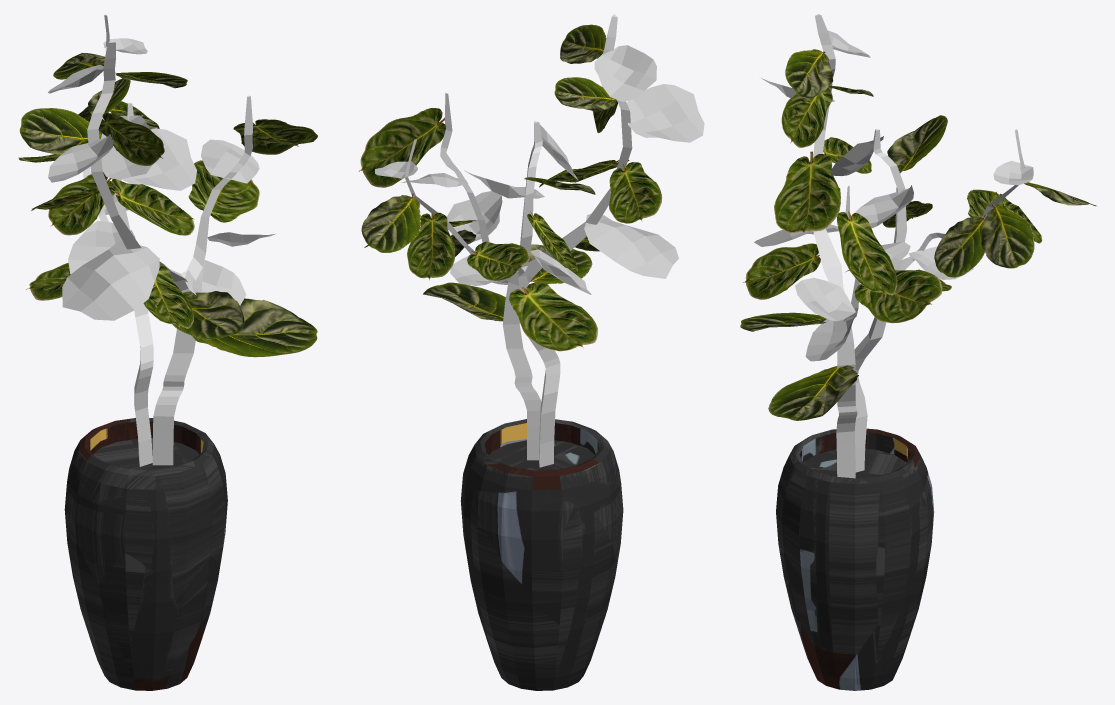
File: Full Plant Low.fbx
The picture shows the model from 3 angles, left to right: view 1: azimuth 30°, elevation 25°; view 2: azimuth 150°, elevation 25°; view 3: azimuth 270°, elevation 25°; orthographic projection. The views are drawn at different scales.
Parts seen in each view (by area): view 1: Pot1_low.002, please-help-base-of-leaf-brown-causing-major-leaf-loss-v0-wa (×9), Ficus-lyrata-upper-Tg-Aru-03--ezgif.com-webp-to-jpg-converte (×8), Plane.002, FIDDLE~2, Plane.001, FIDDLE~2.002, FIDDLE~2.001, FIDDLE~2.003, FIDDLE~2.006, FIDDLE~2.005; view 2: Pot1_low.002, Ficus-lyrata-upper-Tg-Aru-03--ezgif.com-webp-to-jpg-converte (×7), please-help-base-of-leaf-brown-causing-major-leaf-loss-v0-wa (×8), Plane.002, Plane.001, FIDDLE~2.003, FIDDLE~2, FIDDLE~2.005, FIDDLE~2.006, FIDDLE~2.001; view 3: Pot1_low.002, Ficus-lyrata-upper-Tg-Aru-03--ezgif.com-webp-to-jpg-converte (×7), please-help-base-of-leaf-brown-causing-major-leaf-loss-v0-wa (×7), Plane.002, Plane.001, FIDDLE~2, FIDDLE~2.004, FIDDLE~2.007, FIDDLE~2.006, FIDDLE~2.002, FIDDLE~2.001.
Part boxes in pixels (x1,y1,x2,y2): Pot1_low.002: (64, 418, 227, 690); please-help-base-of-leaf-brown-causing-major-leaf-loss-v0-wa (×9): (48, 64, 275, 320); Ficus-lyrata-upper-Tg-Aru-03--ezgif.com-webp-to-jpg-converte (×8): (26, 113, 317, 328); Plane.002: (87, 40, 252, 465); FIDDLE~2: (192, 298, 317, 357); Plane.001: (83, 14, 153, 466); FIDDLE~2.002: (19, 108, 101, 154); FIDDLE~2.001: (172, 291, 244, 339); FIDDLE~2.003: (53, 53, 104, 79); FIDDLE~2.006: (115, 72, 187, 88); FIDDLE~2.005: (88, 78, 130, 115); Pot1_low.002: (460, 419, 623, 690); Ficus-lyrata-upper-Tg-Aru-03--ezgif.com-webp-to-jpg-converte (×7): (358, 108, 662, 351); please-help-base-of-leaf-brown-causing-major-leaf-loss-v0-wa (×8): (447, 45, 704, 294); Plane.002: (440, 14, 632, 460); Plane.001: (404, 121, 560, 467); FIDDLE~2.003: (361, 193, 420, 252); FIDDLE~2: (423, 282, 514, 323); FIDDLE~2.005: (554, 77, 616, 110); FIDDLE~2.006: (560, 24, 606, 63); FIDDLE~2.001: (528, 244, 592, 284); Pot1_low.002: (776, 428, 934, 690); Ficus-lyrata-upper-Tg-Aru-03--ezgif.com-webp-to-jpg-converte (×7): (743, 87, 1002, 323); please-help-base-of-leaf-brown-causing-major-leaf-loss-v0-wa (×7): (754, 136, 1033, 361); Plane.002: (813, 14, 859, 478); Plane.001: (854, 129, 1024, 472); FIDDLE~2: (768, 365, 858, 420); FIDDLE~2.004: (981, 204, 1034, 268); FIDDLE~2.007: (934, 215, 986, 277); FIDDLE~2.006: (785, 49, 833, 98); FIDDLE~2.002: (887, 115, 947, 173); FIDDLE~2.001: (740, 312, 826, 331).
Bounding box in the file's own units: 326 × 676 × 355.
